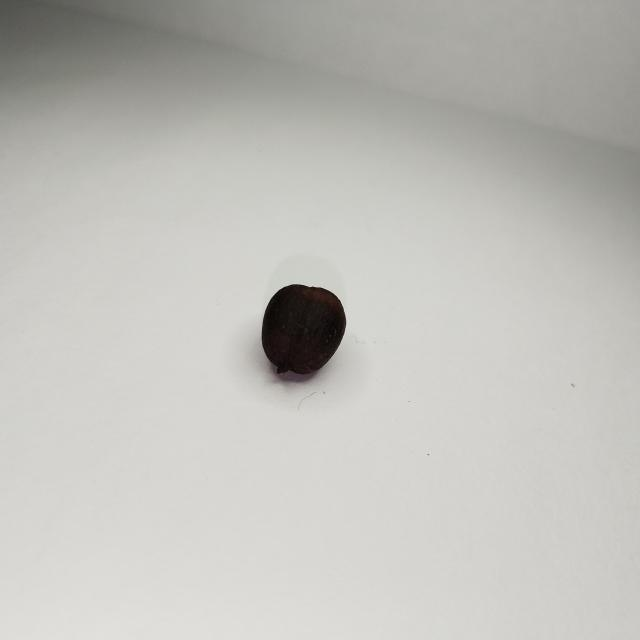Danado: (262, 285, 345, 375)
